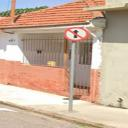NoSeguir: (64, 26, 88, 41)
